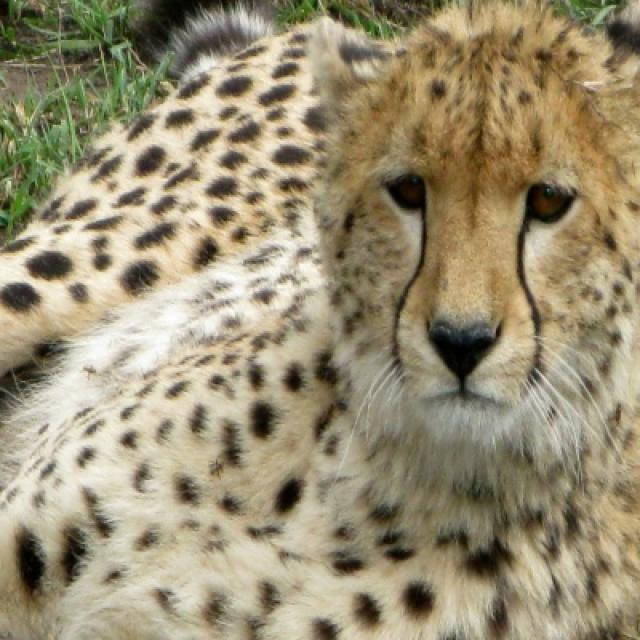Cheetah: (0, 0, 638, 638)
